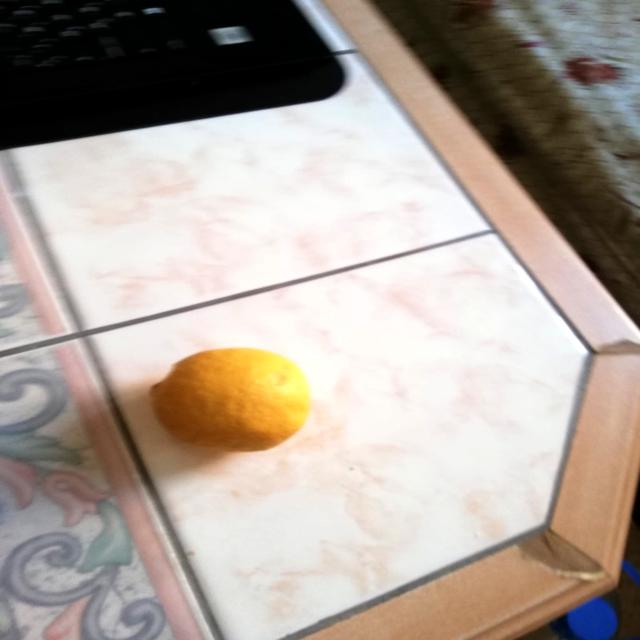lemon: (143, 341, 321, 453)
